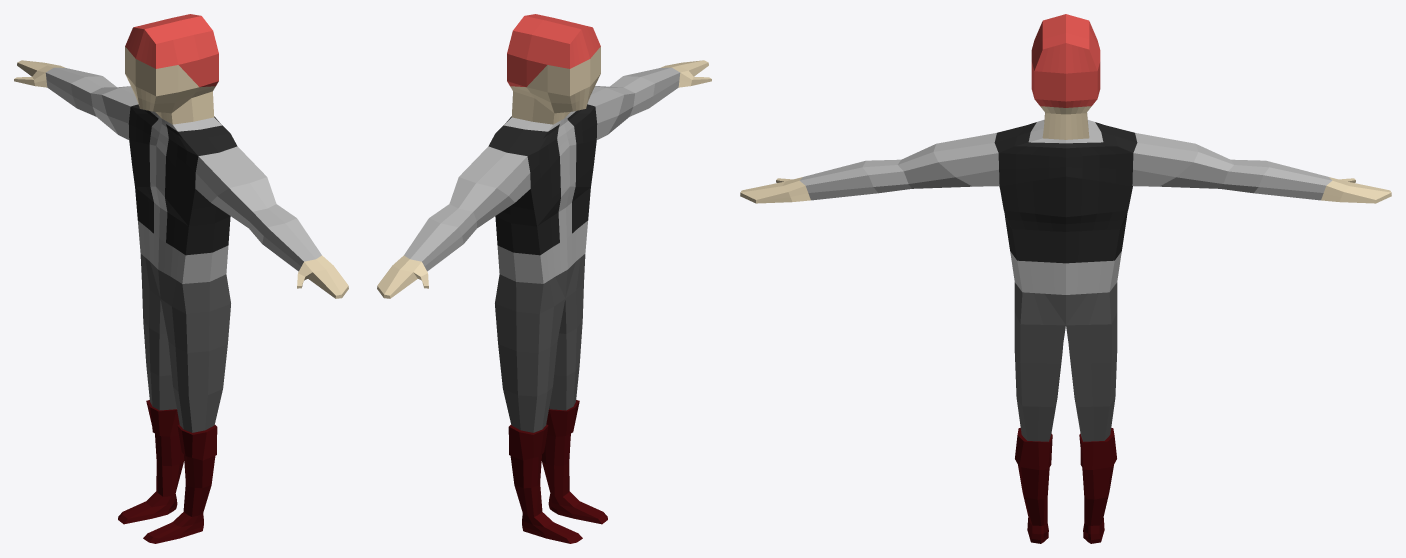
Rendered from pirate_2.fbx.
3 views of the same model, side by side, from view 1: azimuth 30°, elevation 25°; view 2: azimuth 150°, elevation 25°; view 3: azimuth 270°, elevation 25° (orthographic).
Parts seen in each view (by area): view 1: Cube; view 2: Cube; view 3: Cube.
Boxes of the visible parts, box(x1,y1,x2,y2) form: Cube: box(14, 14, 348, 543); Cube: box(377, 14, 711, 543); Cube: box(740, 14, 1391, 543).
Bounding box in the file's own units: 227 × 1322 × 1536.
